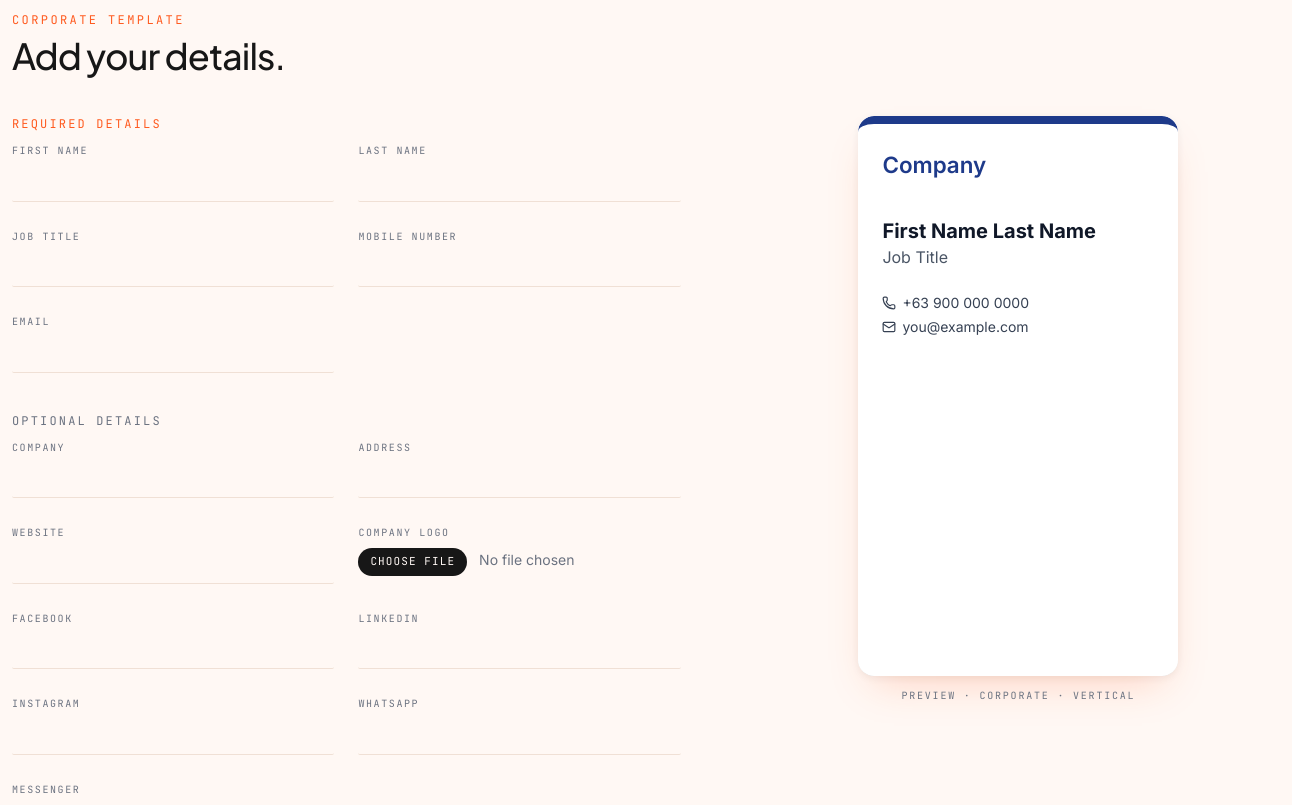
Test case: BuilderWizard › patches the draft when a field changes
In the field labelled "First name": (173, 184) x1=12 y1=166 x2=334 y2=202, type "Juan"
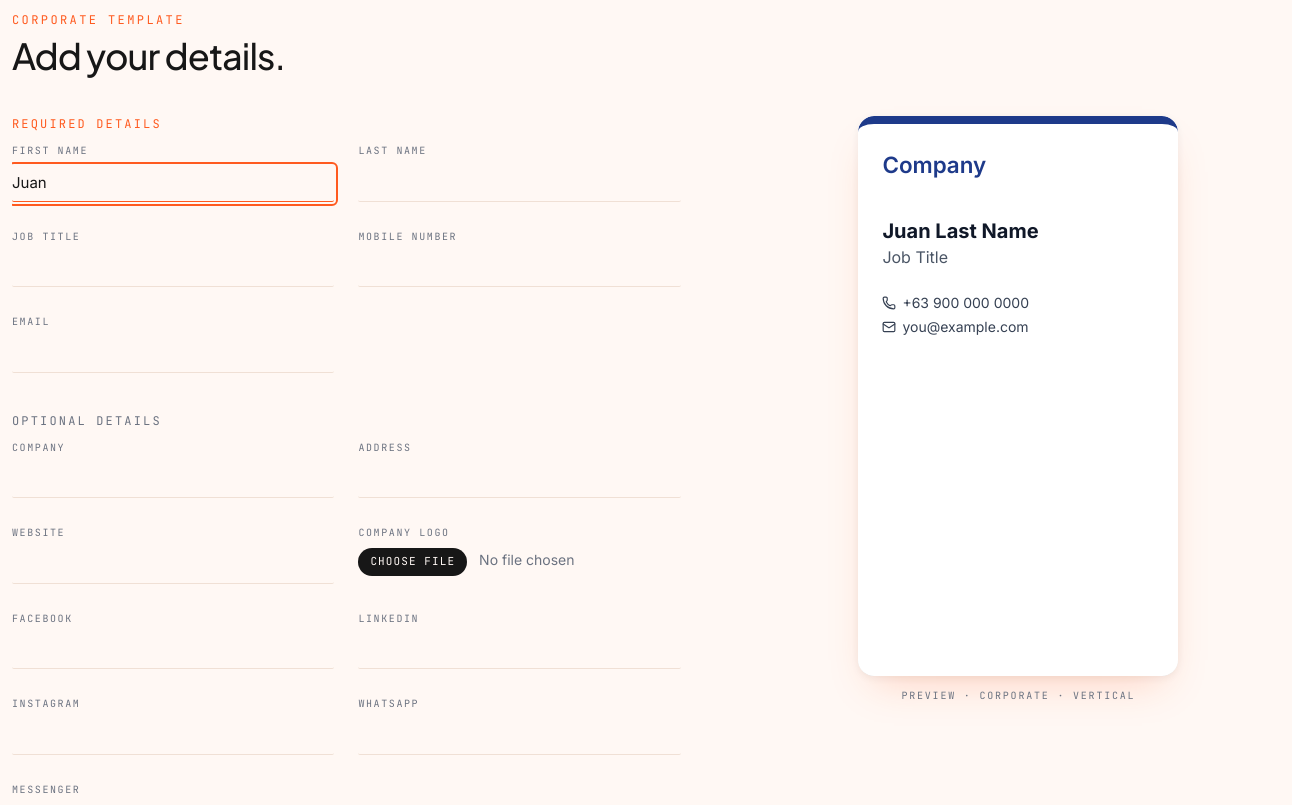
Expected: the heading "Juan Last Name" is shown, x1=882 y1=219 x2=1039 y2=243
